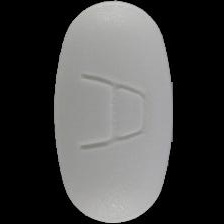42549-535: (0, 0, 224, 224)
